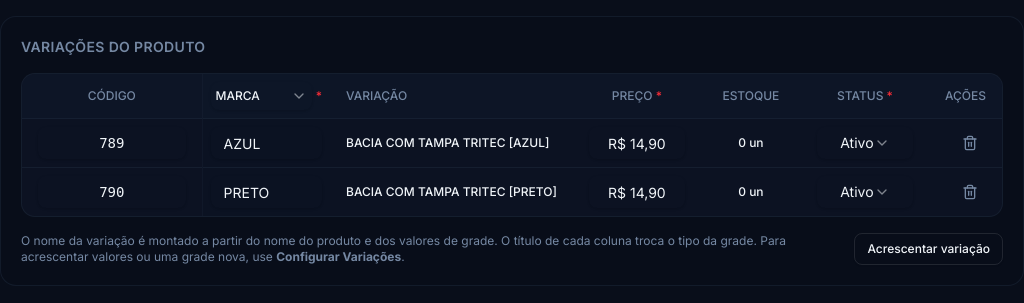
Test: ProductVariationsSection › as opções de grade vêm em ordem alfabética, sem Modelo
The width and height of the screenshot is (1024, 303).
Click the dropdown named "trocar o tipo desta grade" at (261, 96), box x1=211 y1=82 x2=312 y2=110
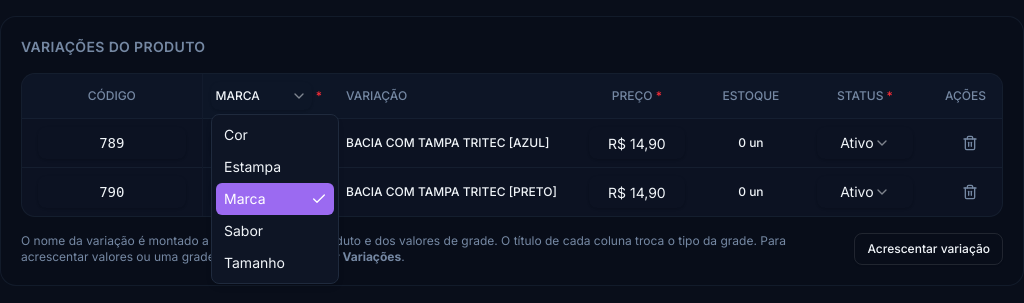
Result: the options read "Cor", "Estampa", "Marca", "Sabor", "Tamanho", in this order at x1=224 y1=126 x2=248 y2=143; x1=224 y1=158 x2=281 y2=175; x1=216 y1=183 x2=334 y2=215; x1=224 y1=222 x2=263 y2=239; x1=224 y1=254 x2=285 y2=271
